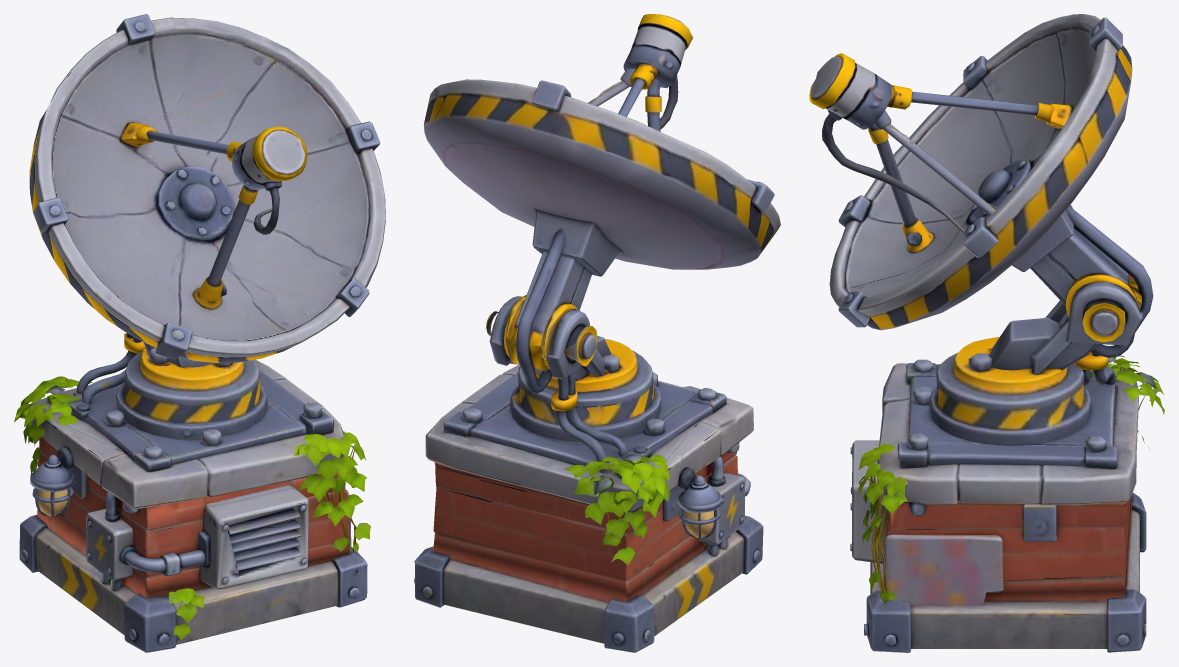
File: satellite_dish_tower.glb
3 views of the same model, side by side, from view 1: azimuth 30°, elevation 25°; view 2: azimuth 150°, elevation 25°; view 3: azimuth 270°, elevation 25° (orthographic). The views are drawn at different scales.
Visible parts, largest first — view 1: geometry_0; view 2: geometry_0; view 3: geometry_0.
Part boxes in pixels (x1=…): geometry_0: x1=14, y1=14, x2=385, y2=652; geometry_0: x1=414, y1=14, x2=780, y2=652; geometry_0: x1=809, y1=14, x2=1164, y2=652.
Size of what is drawn, in the model's own units: 0.6583 by 1 by 0.5695.
1 material, 1 textured.
